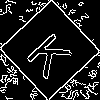K: (24, 24, 81, 80)
